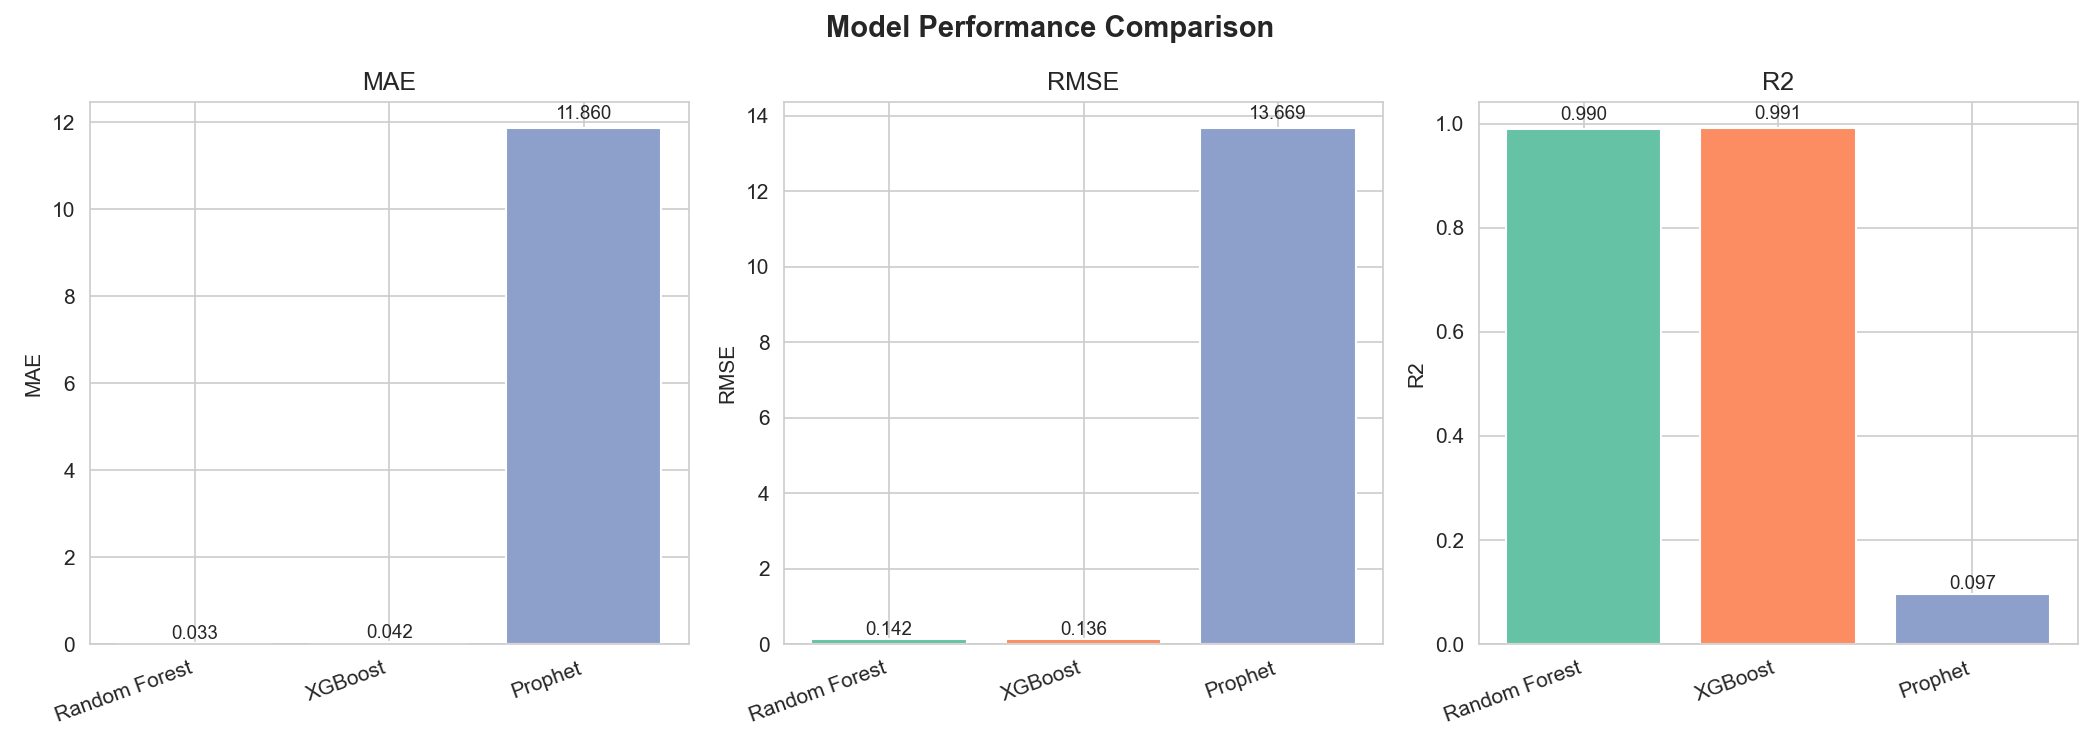

The page's visual inventory and layout, read from the dashboard file:
{"tool":"powerbi","page":{"name":"ML Model Comparison","canvas":[1280,720],"ordinal":2},"visuals":[{"type":"clusteredColumnChart","fields":{"Category":["model_results.model"],"Y":["Sum(model_results.MAE)"]},"box":[64.8,22.6,279.5,280.3],"z":0},{"type":"clusteredColumnChart","fields":{"Category":["model_results.model"],"Y":["Sum(model_results.RMSE)"]},"box":[492.8,14.6,280.3,280.3],"z":1},{"type":"clusteredColumnChart","fields":{"Category":["model_results.model"],"Y":["Sum(model_results.R2)"]},"box":[880.8,15.3,280.3,279.5],"z":2},{"type":"pivotTable","fields":{"Rows":["model_results.model"],"Values":["Sum(model_results.RMSE)","Sum(model_results.R2)","Sum(model_results.MAE)"]},"box":[444.1,369.1,390.9,136.1],"z":3}]}

Visuals, with their boxes on the page's 1280x720 design canvas (x1, y1, x2, y2). These are canvas units, not pixel positions in the 2100x750 screenshot, which may show the page scaled, cropped or inside an application window:
clusteredColumnChart - model_results.model x Sum(model_results.MAE): region(65, 23, 344, 303)
clusteredColumnChart - model_results.model x Sum(model_results.RMSE): region(493, 15, 773, 295)
clusteredColumnChart - model_results.model x Sum(model_results.R2): region(881, 15, 1161, 295)
pivotTable - model_results.model x Sum(model_results.RMSE): region(444, 369, 835, 505)
